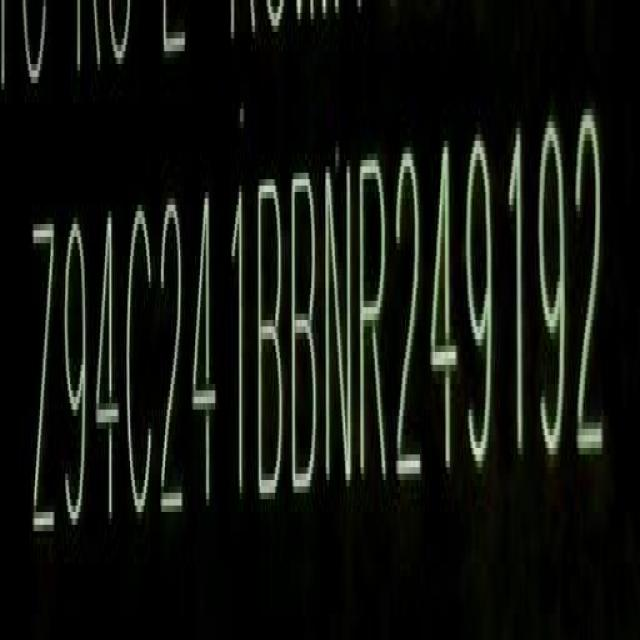1: (504, 120, 528, 480), (228, 177, 247, 517)
2: (576, 106, 606, 468), (396, 144, 426, 494), (160, 187, 190, 532)
4: (428, 138, 458, 488), (193, 188, 222, 528), (95, 204, 124, 539)
9: (536, 112, 570, 470), (462, 133, 493, 485), (61, 214, 88, 550)
B: (291, 163, 321, 504), (257, 172, 286, 513)
C: (127, 197, 159, 538)
N: (324, 155, 352, 500)
R: (358, 148, 390, 500)
Z: (27, 214, 58, 564)
